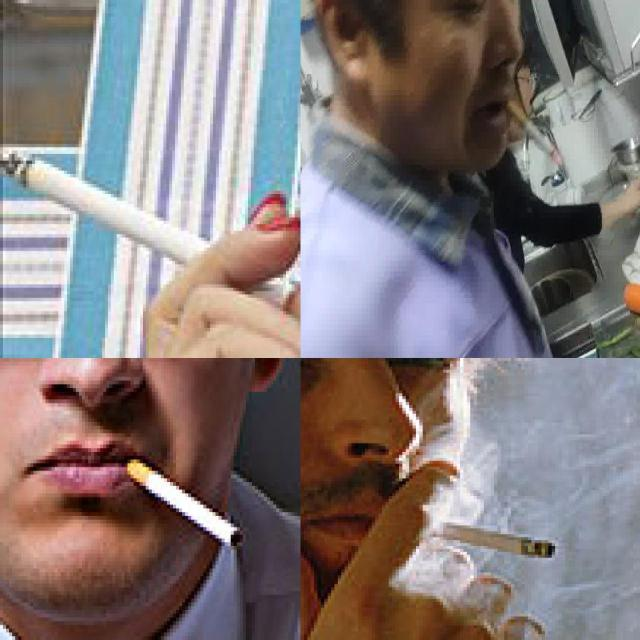smoking: (0, 144, 289, 312), (124, 456, 245, 550), (426, 516, 556, 560), (504, 92, 562, 166)
